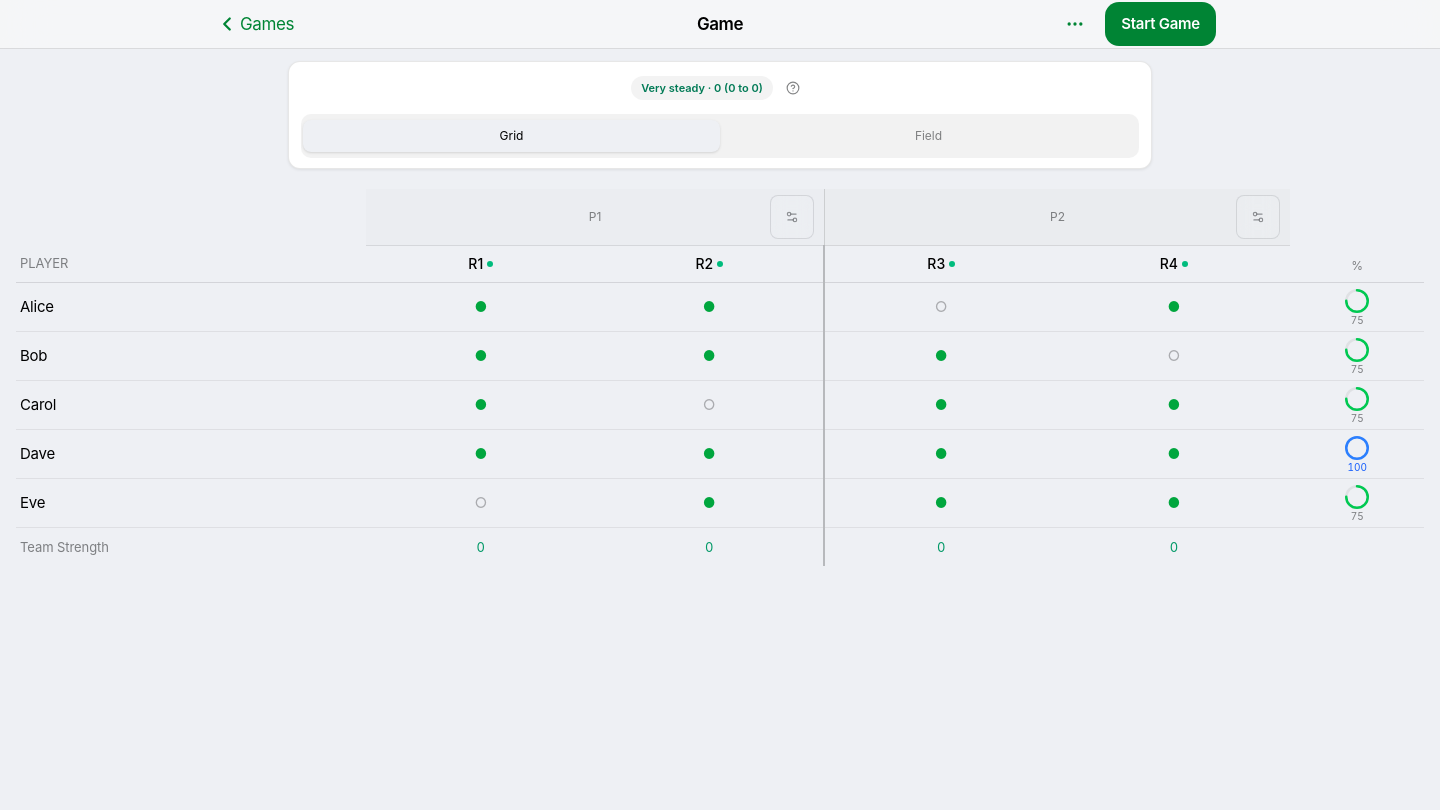
Test case: RotationGrid › setup mode › marks unavailable merge options when period rotations conflict
Click the button named "period 1 actions": x=792, y=217 [770,195,814,239]
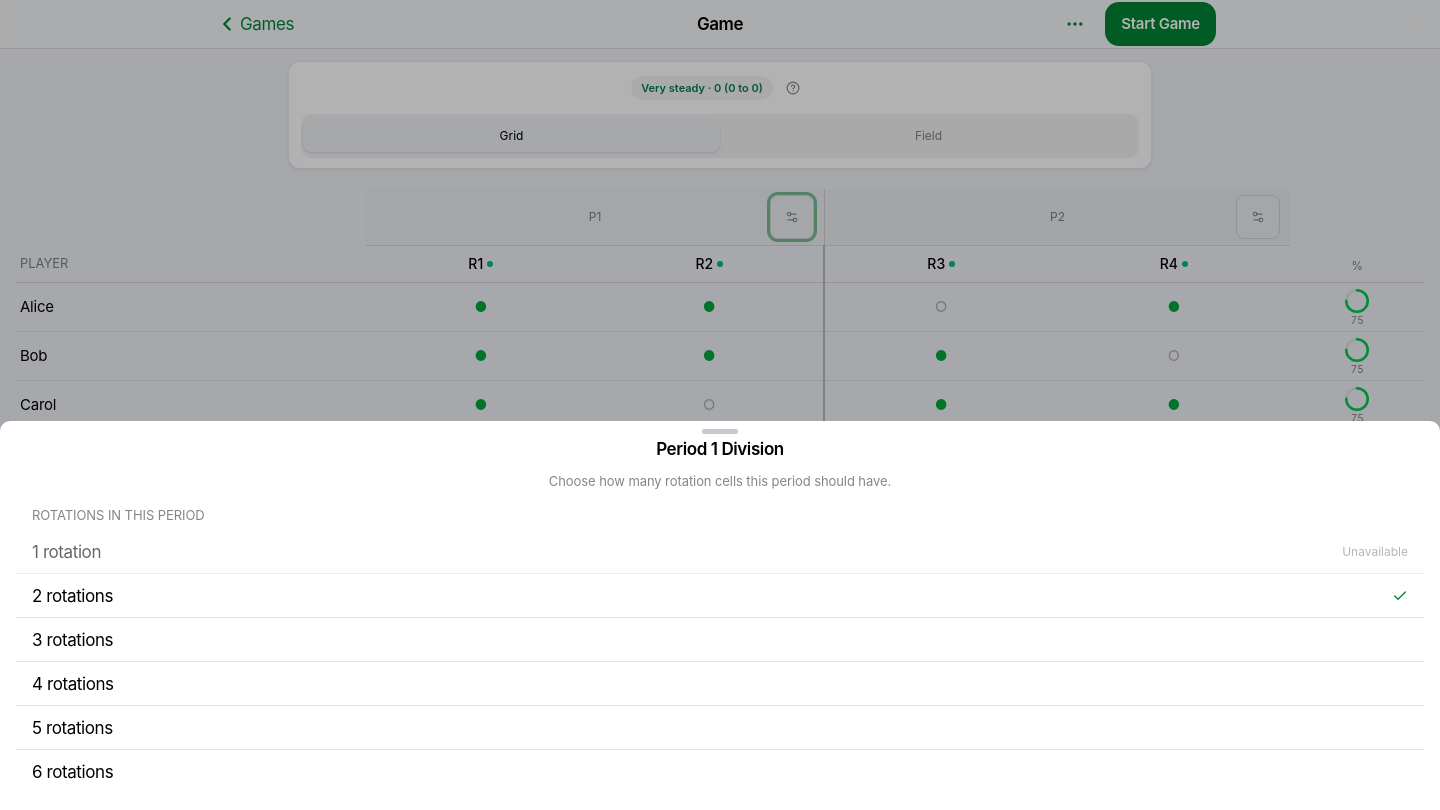
Check: the text "1 rotation" is shown, box [32,542,101,562]
Check: the text "Unavailable" is shown, box [1342,544,1408,560]
